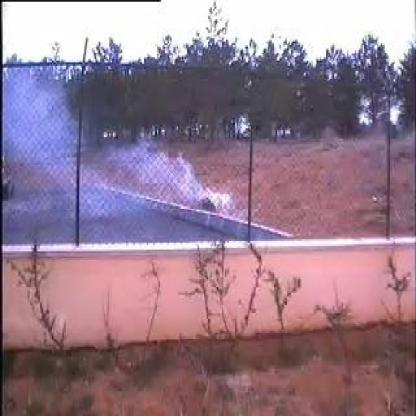-: (36, 69, 235, 214)
